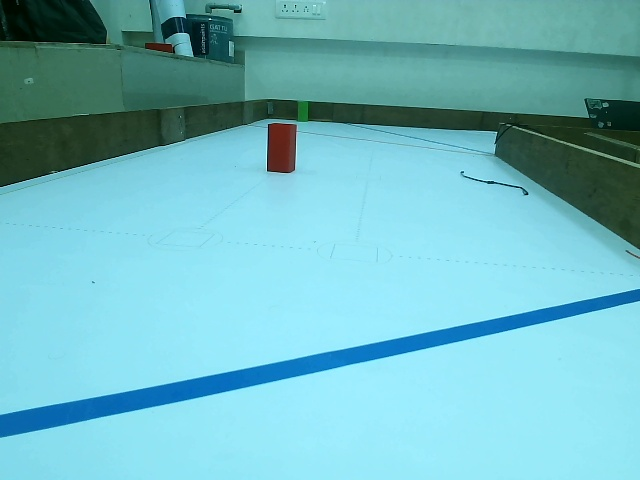red: (268, 123, 296, 176)
